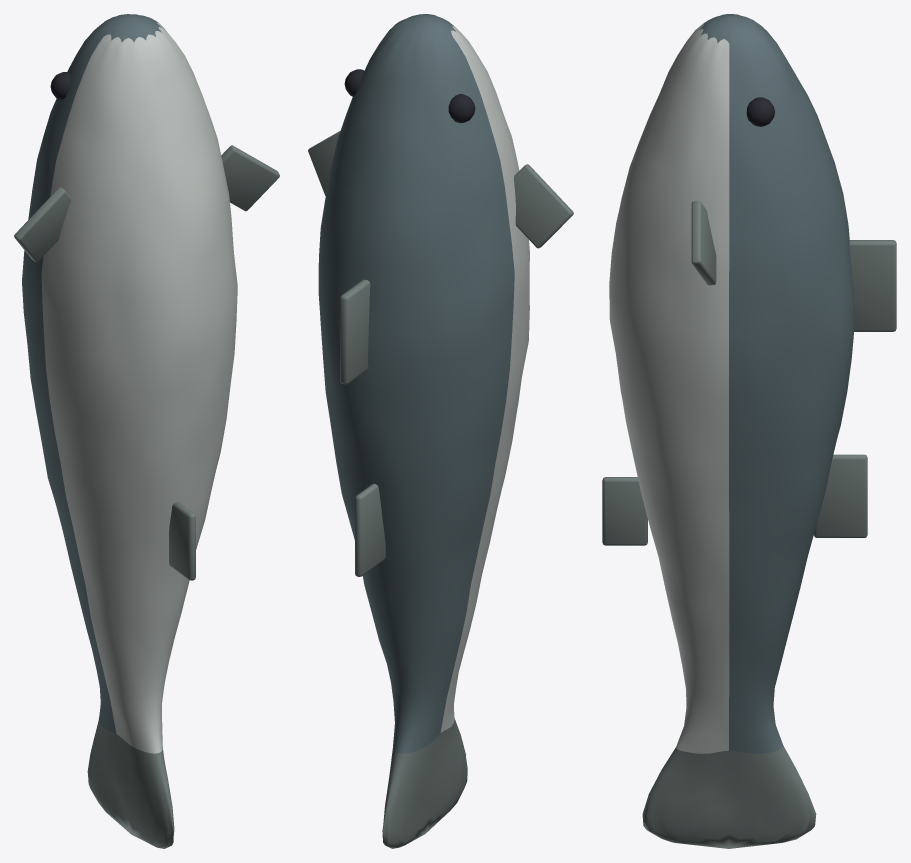
The model's file is catch_fish_cod.glb.
The picture shows the model from 3 angles, left to right: view 1: azimuth 30°, elevation 25°; view 2: azimuth 150°, elevation 25°; view 3: azimuth 270°, elevation 25°; orthographic projection.
Parts seen in each view (by area): view 1: AtlanticCod; view 2: AtlanticCod; view 3: AtlanticCod.
Boxes of the visible parts, bbox=[...] form: AtlanticCod: bbox=[14, 14, 279, 848]; AtlanticCod: bbox=[308, 14, 573, 848]; AtlanticCod: bbox=[602, 14, 896, 848].
Size of the model in its own units: 0.3738 by 1.11 by 0.355.
